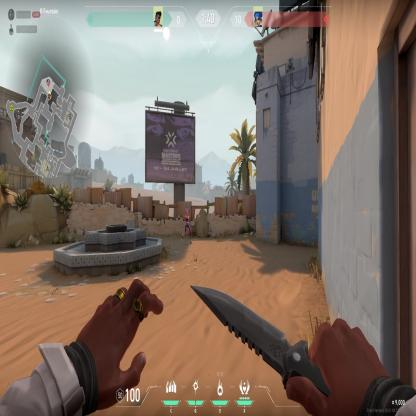enemy: (181, 206, 193, 245)
